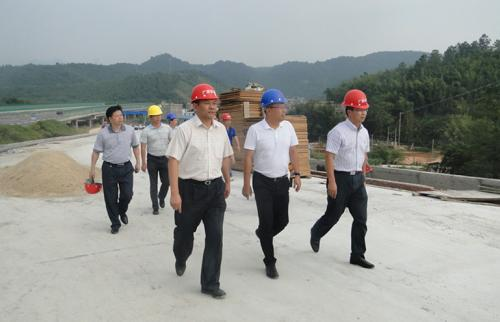head: (105, 103, 126, 129)
helmet: (188, 82, 221, 121), (258, 86, 289, 124), (341, 88, 371, 125), (146, 102, 164, 126), (218, 109, 233, 130)
